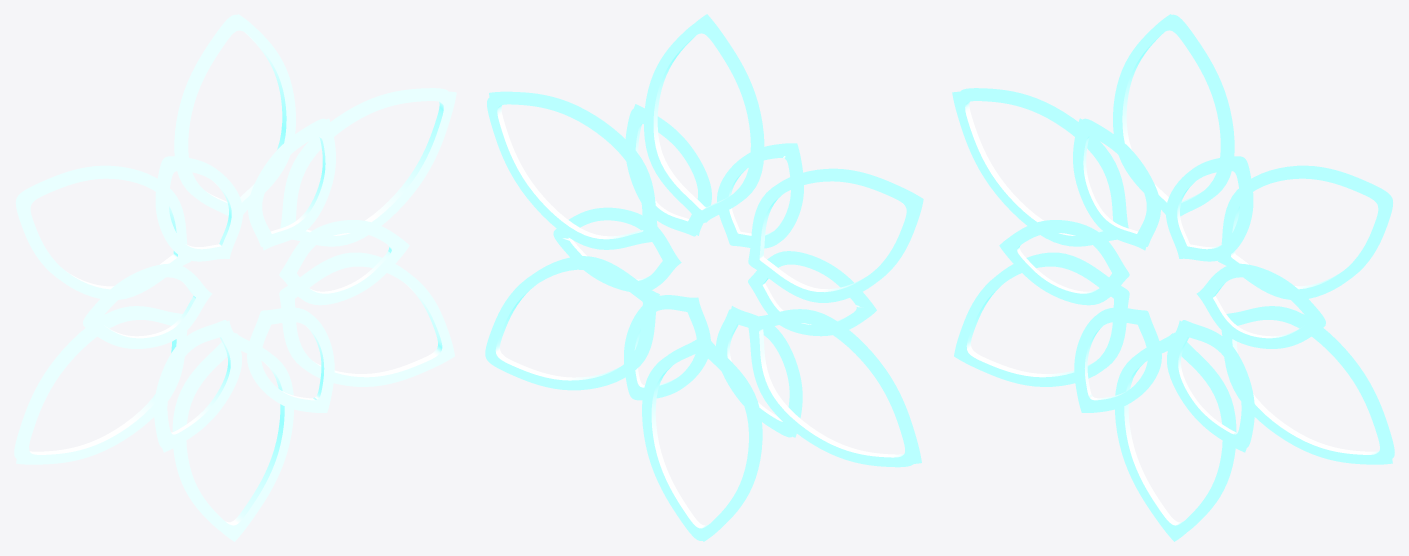
Rendered from Ceiling Light_light_0.fbx.
3 views of the same model, side by side, from view 1: azimuth 30°, elevation 25°; view 2: azimuth 150°, elevation 25°; view 3: azimuth 330°, elevation 25° (orthographic).
Visible parts, largest first — view 1: Ceiling Light_light_0; view 2: Ceiling Light_light_0; view 3: Ceiling Light_light_0.
Boxes of the visible parts, x1,y1,x2,y2 form: Ceiling Light_light_0: [14, 14, 456, 541]; Ceiling Light_light_0: [485, 14, 923, 541]; Ceiling Light_light_0: [952, 14, 1394, 541].
Size of the model in its own units: 1.42 by 0.0953 by 1.64.
